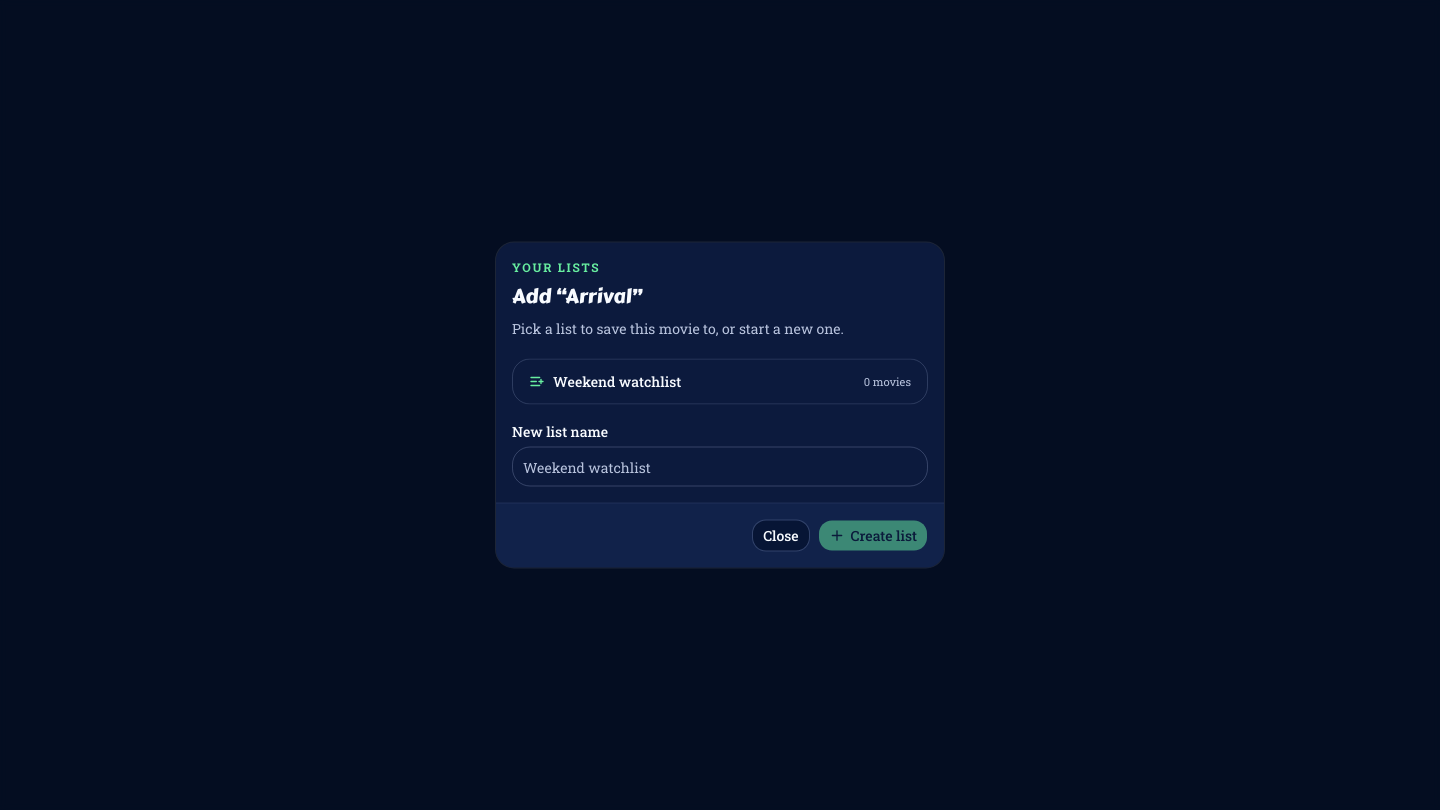
Scenario: AddToListDialog add to list › reports when the movie is already in the list
This screenshot has width=1440, height=810.
Step 1. Click the button "Weekend watchlist 0 movies" → click(617, 381), box [512,358,928,404]
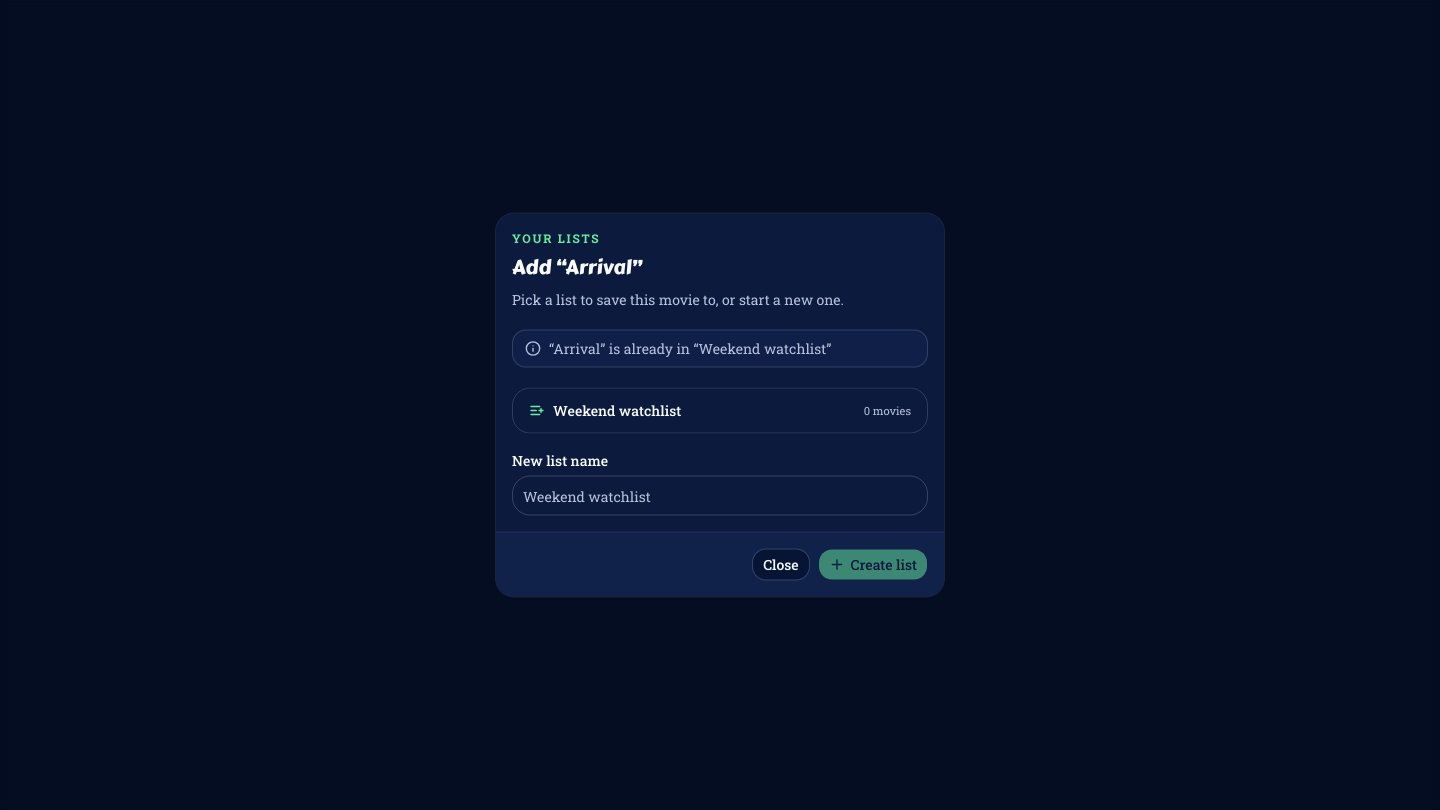
expect the message reads "“Arrival” is already in “Weekend watchlist”": met, box [549,338,831,358]
